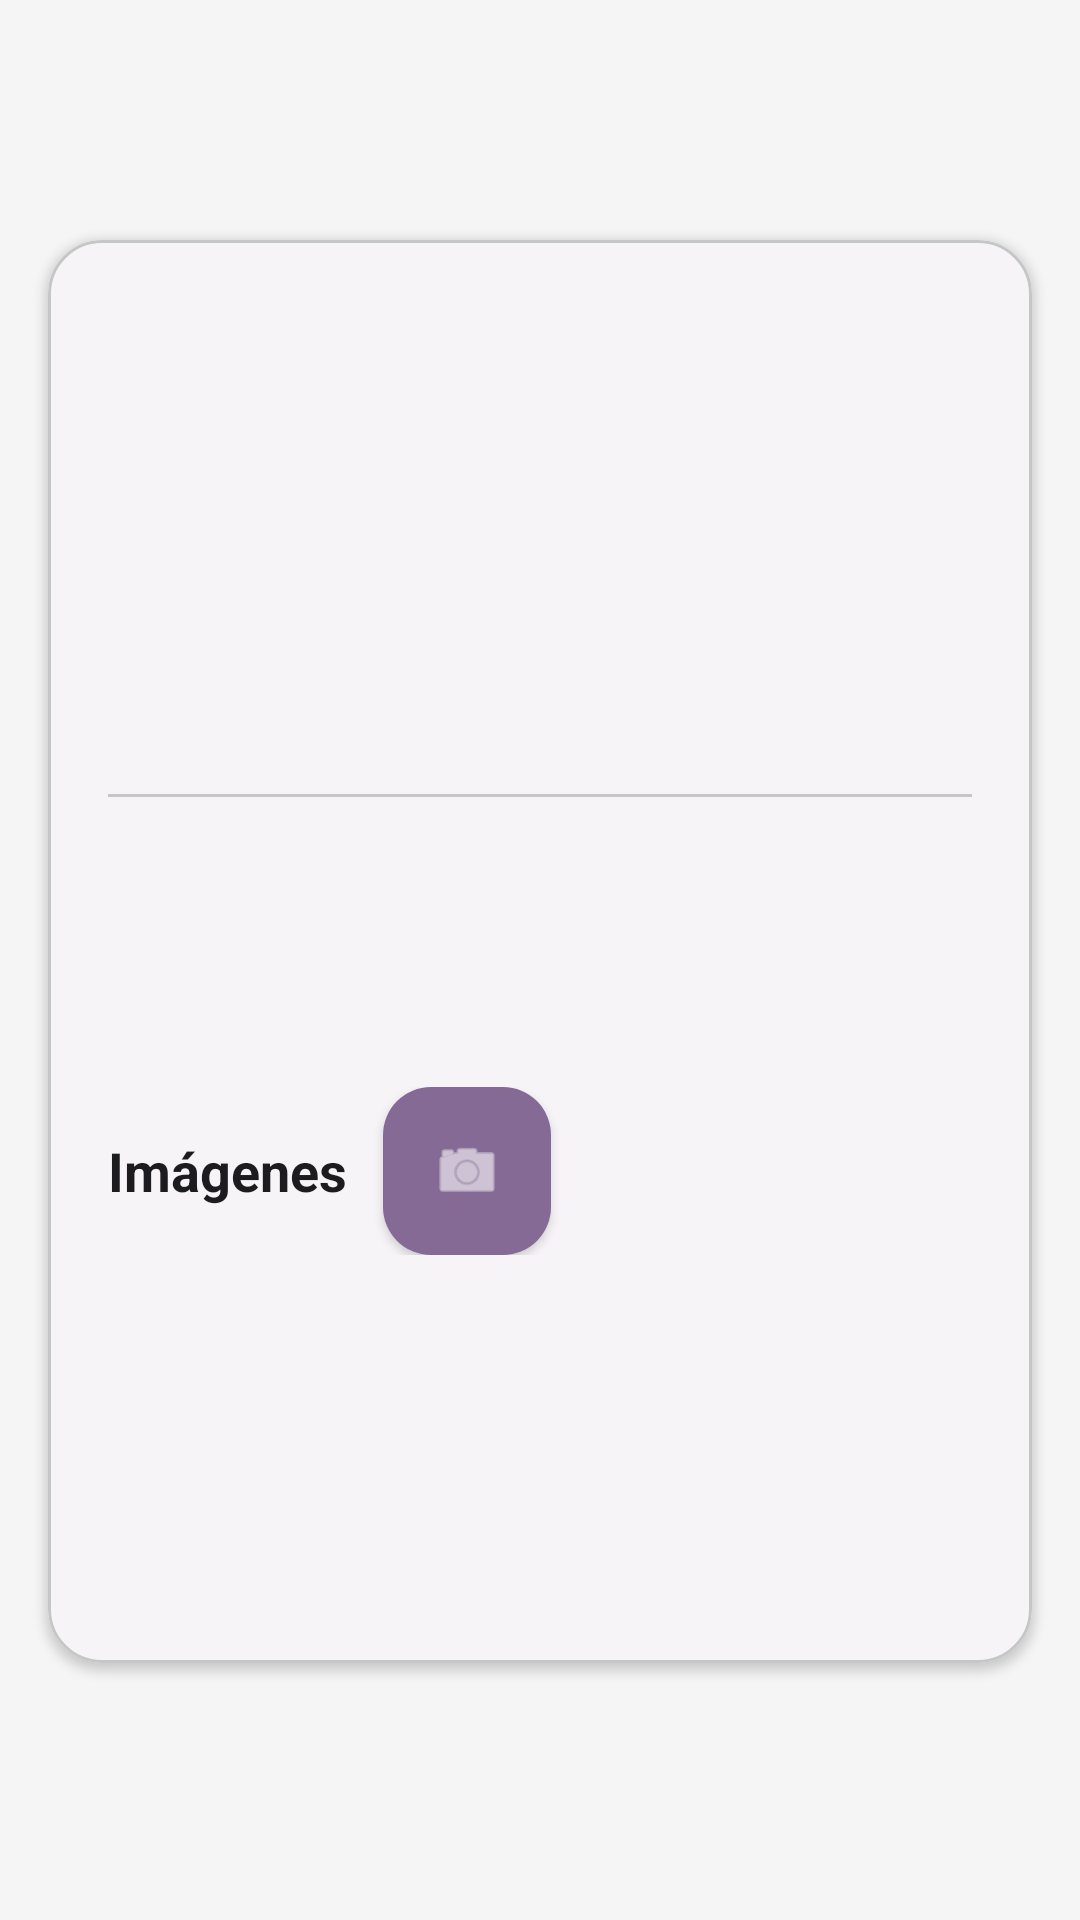

Named icons in this screenshot (1080*1920) and their centers, [x,y]:
camera: [467,1171]
